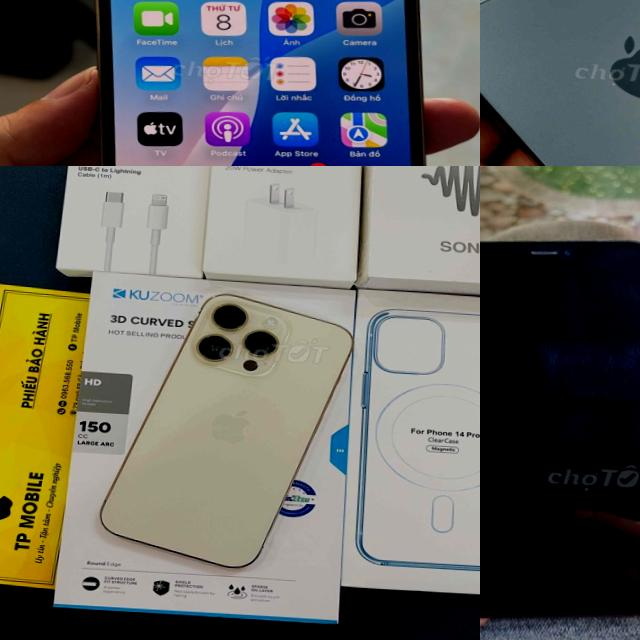gen_12_13: (62, 0, 459, 166), (480, 225, 640, 634), (480, 0, 640, 166)
gen_14: (90, 278, 356, 572)
